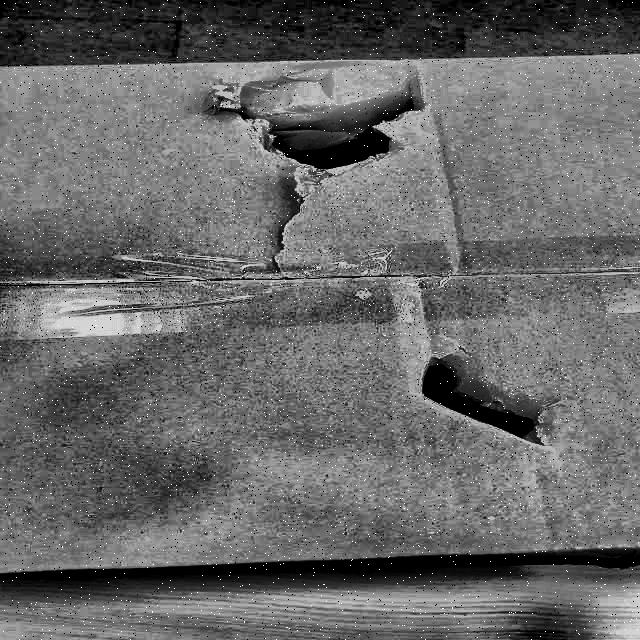box: (0, 48, 640, 583)
hole: (214, 73, 442, 183), (395, 353, 555, 449)
